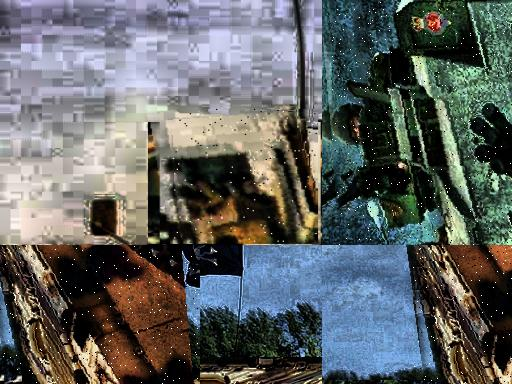tanks: (334, 1, 512, 246), (1, 246, 194, 384), (174, 110, 318, 246), (415, 246, 512, 384)
